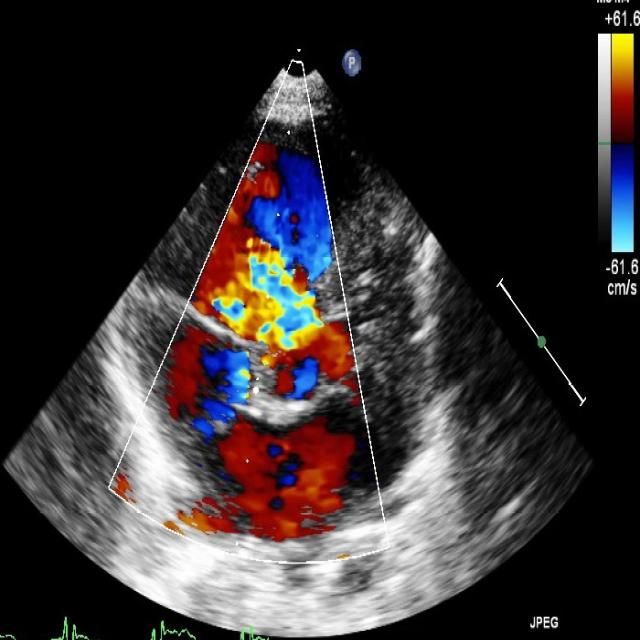VSDType2: (210, 237, 354, 380)
